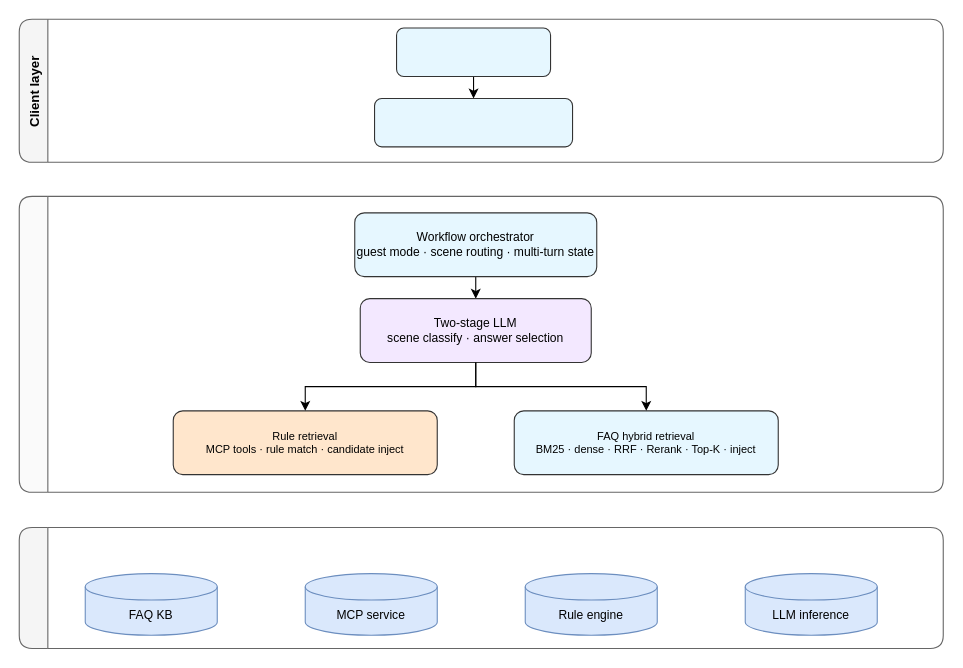
Image size: 963x668. Some labels were removed from this diagram. The box of each missing label's shape, as (x1, y1, x2, y2) in pixels:
AI Infra: (18, 526, 943, 648)
Chat UI: (395, 27, 551, 76)
CS Agent: (18, 195, 943, 492)
Session service: (373, 97, 573, 147)
